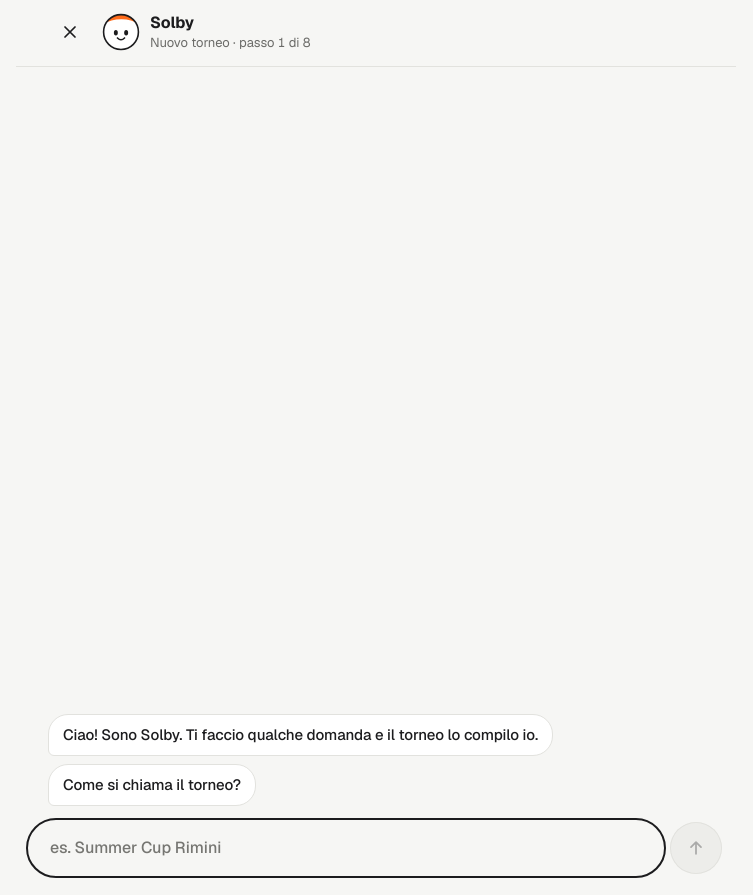
it: CreaChat — la testata e la capsula (design 14) › il campo c'è anche sulle domande a scelte: scrivere una scelta vale come toccarla
This screenshot has width=753, height=895.
Type keys "Rimini Open{Enter}"
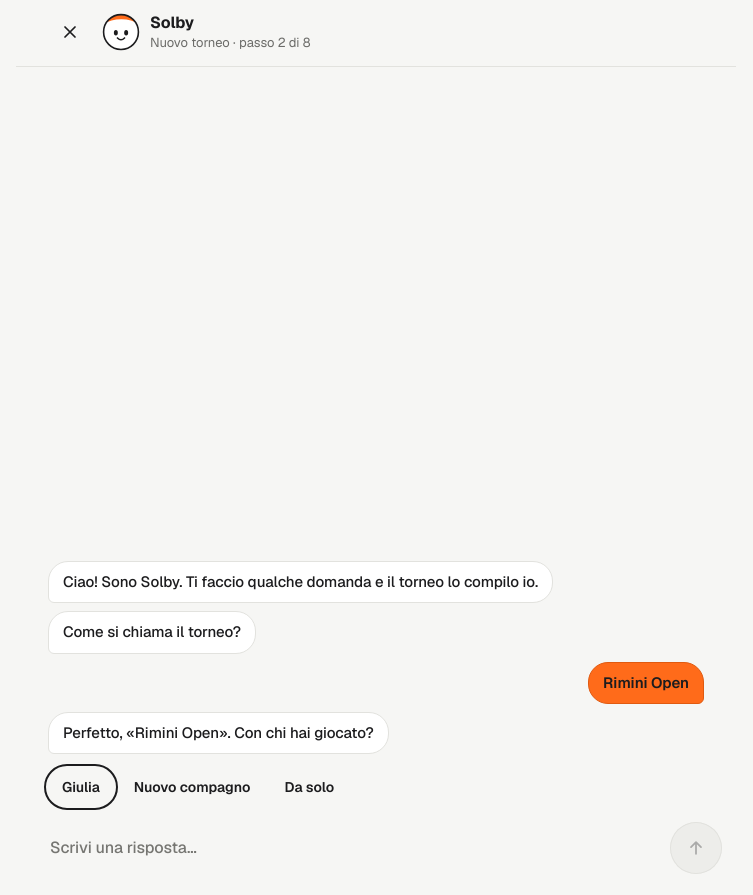
In the field named "Perfetto, «Rimini Open». Con chi hai giocato?": (346, 848) [48,835,644,861], type "giulia"
Then press Enter
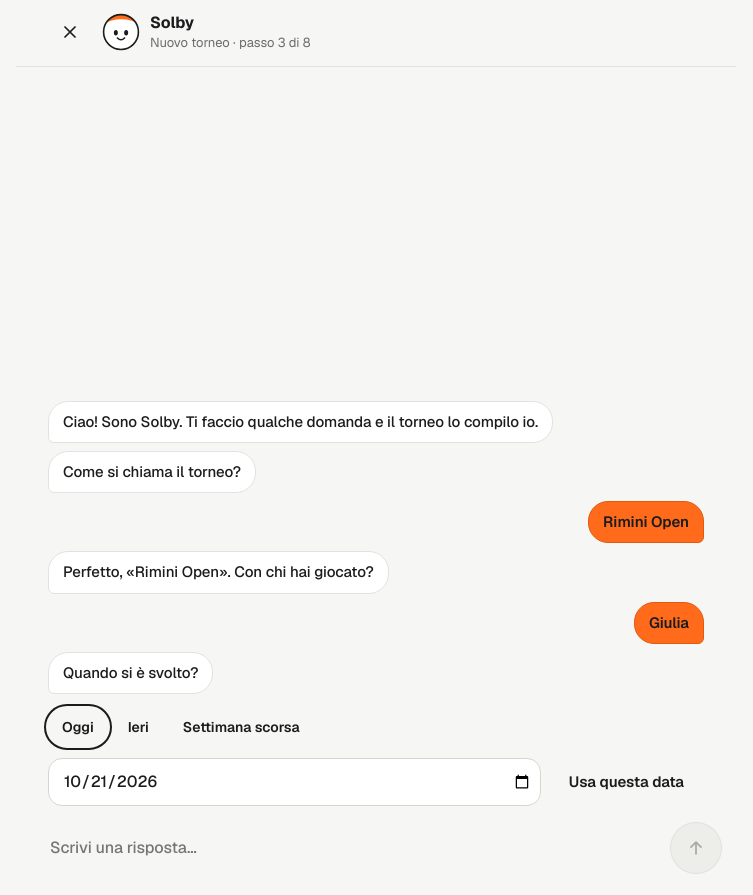
Check: the text "Giulia" is shown, box [634,602,704,644]
Check: the button "Oggi" is shown, box [48,708,108,746]
